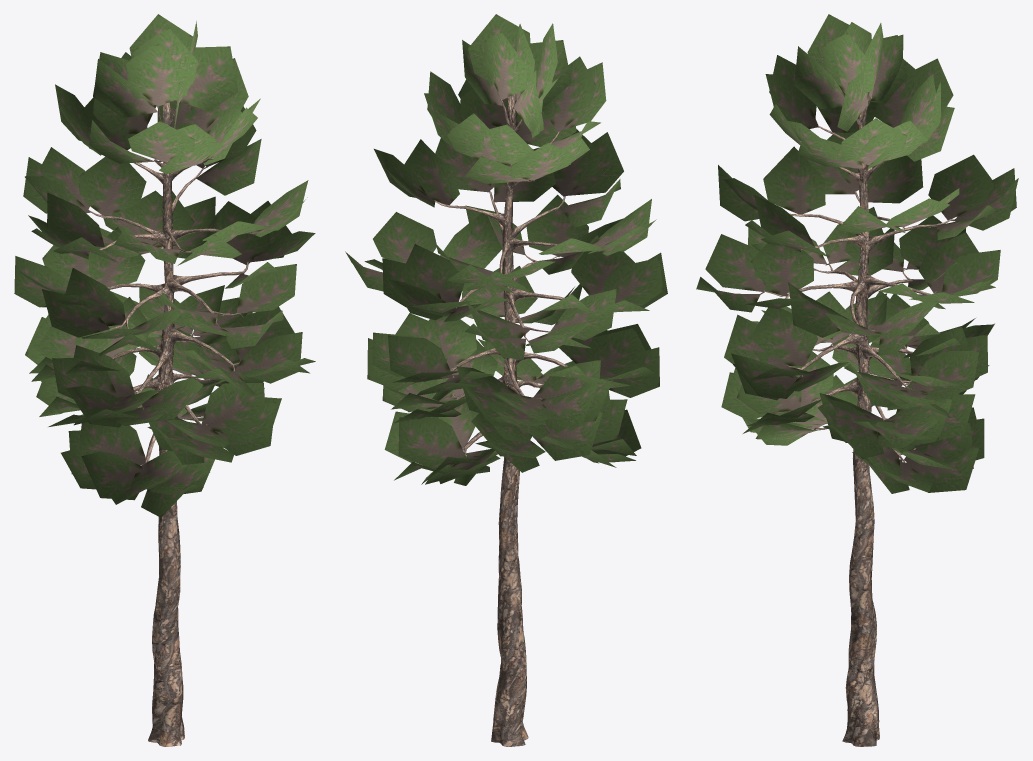
The model's file is Pine.fbx.
3 views of the same model, side by side, from view 1: azimuth 30°, elevation 25°; view 2: azimuth 150°, elevation 25°; view 3: azimuth 270°, elevation 25° (orthographic).
Visible parts, largest first — view 1: Tree_0; view 2: Tree_0; view 3: Tree_0.
Boxes of the visible parts, <box> form: Tree_0: <box>14,14,315,746</box>; Tree_0: <box>345,14,667,746</box>; Tree_0: <box>696,14,1018,746</box>.
Bounding box in the file's own units: 546 × 542 × 1329.
2 materials, 2 textured.
